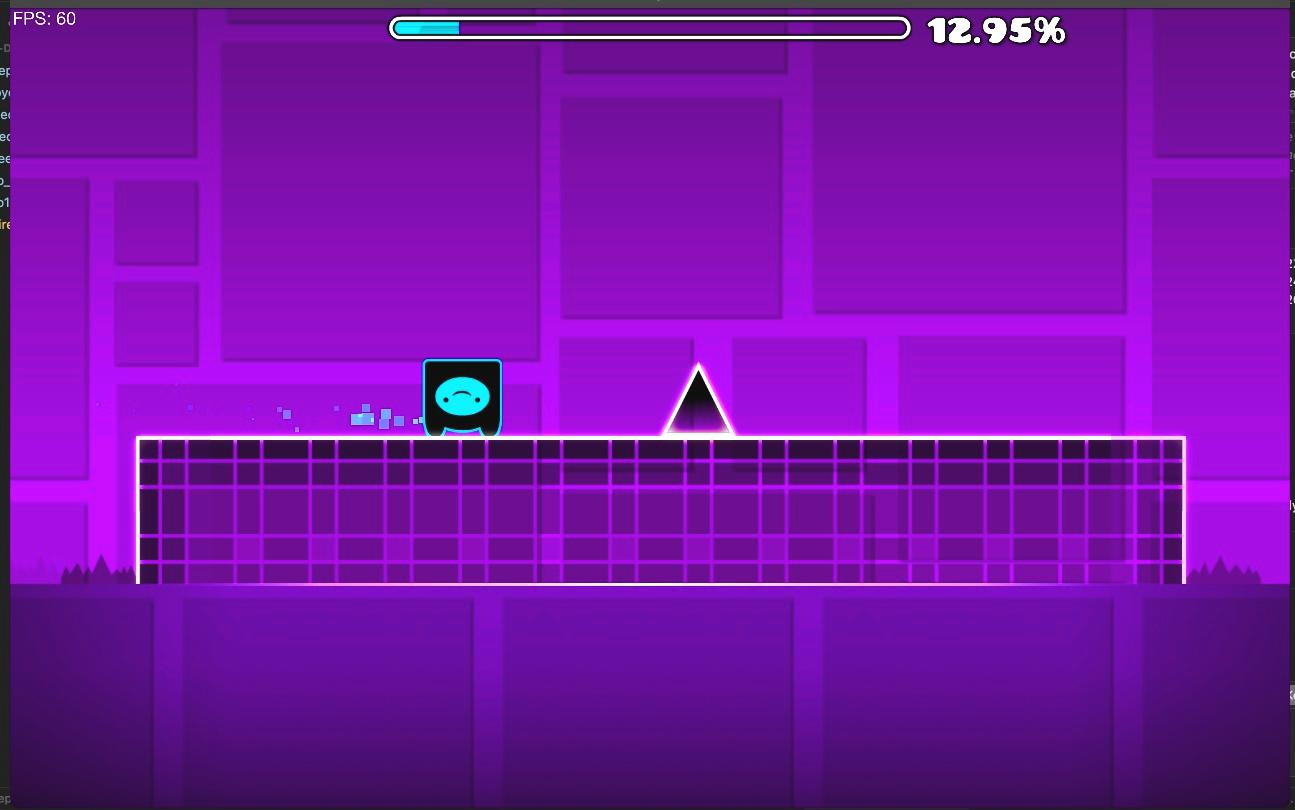block: (140, 436, 1185, 585)
player: (423, 359, 501, 435)
spike: (663, 364, 733, 433), (60, 556, 135, 584), (1186, 558, 1261, 583)
